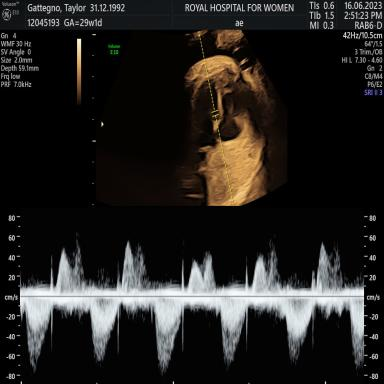Ultrasound-Waves: (24, 214, 363, 384)
